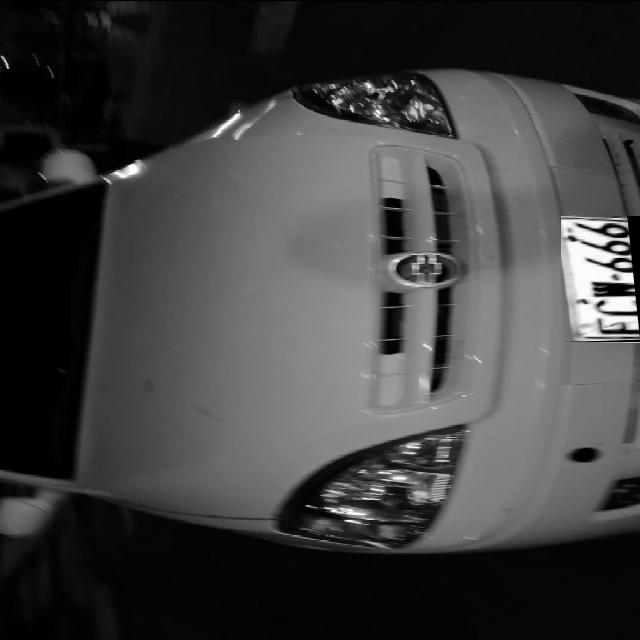plate: (561, 215, 640, 341)
